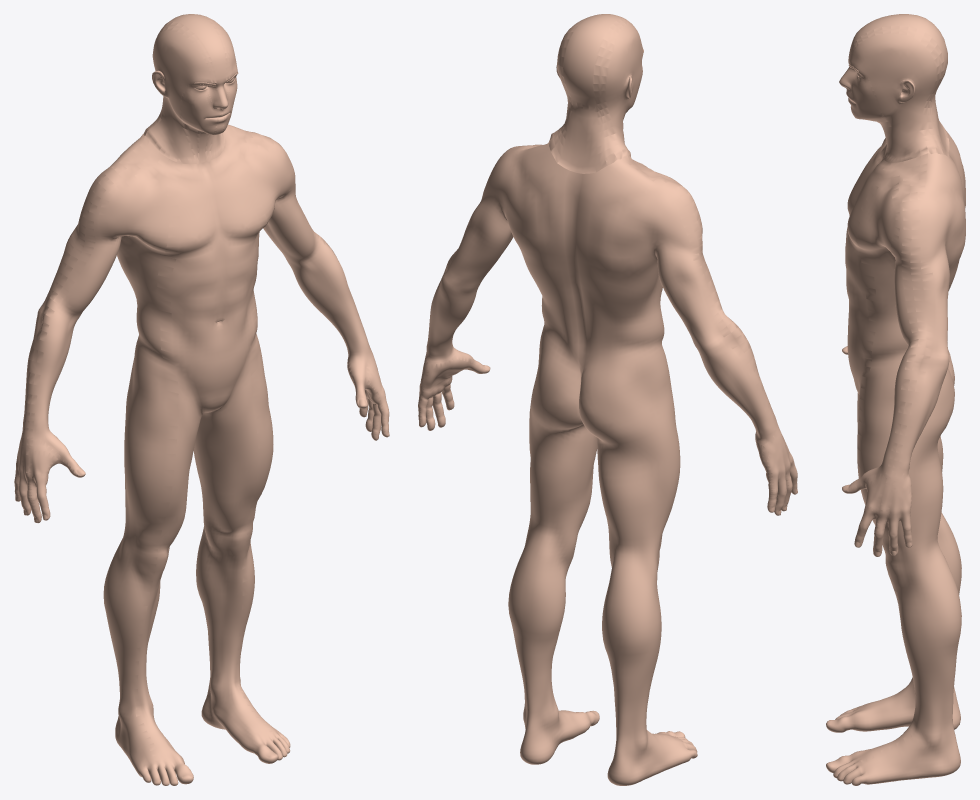
File: prodModelfinal4.glb
3 views of the same model, side by side, from view 1: azimuth 30°, elevation 25°; view 2: azimuth 150°, elevation 25°; view 3: azimuth 270°, elevation 25° (orthographic).
Parts seen in each view (by area): view 1: Object_4, Object_2; view 2: Object_4, Object_2; view 3: Object_4, Object_2.
Part boxes in pixels (bbox=[...]): Object_4: bbox=[14, 124, 389, 785]; Object_2: bbox=[144, 14, 238, 164]; Object_4: bbox=[418, 142, 797, 785]; Object_2: bbox=[548, 14, 643, 172]; Object_4: bbox=[826, 128, 965, 785]; Object_2: bbox=[839, 14, 948, 162].
Bounding box in the file's own units: 0.3816 × 0.7421 × 0.1281.
1 material, 1 textured.
